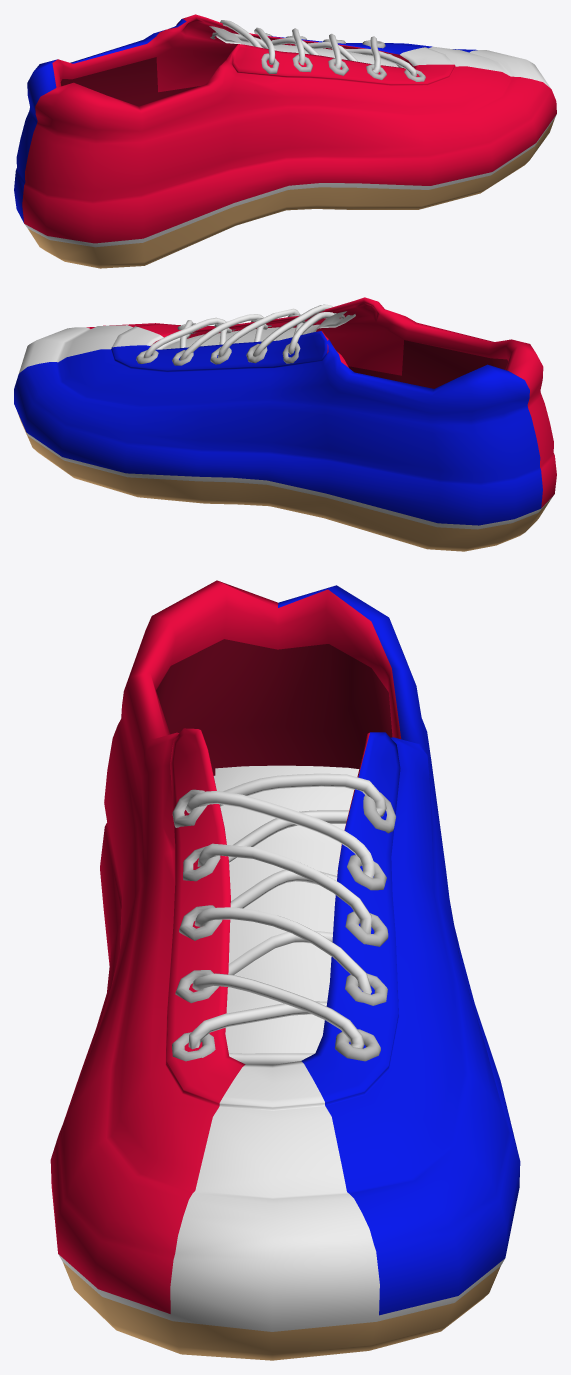
File: LeftBowlingShoes.fbx
3 views of the same model, one above another, from view 1: azimuth 30°, elevation 25°; view 2: azimuth 150°, elevation 25°; view 3: azimuth 270°, elevation 25° (orthographic). The views are drawn at different scales.
Parts seen in each view (by area): view 1: Shoes.L; view 2: Shoes.L; view 3: Shoes.L.
Part boxes in pixels (<box>): Shoes.L: <box>14,14,556,268</box>; Shoes.L: <box>14,297,556,551</box>; Shoes.L: <box>50,580,520,1360</box>.
Bounding box in the file's own units: 3912 × 1327 × 1544.
